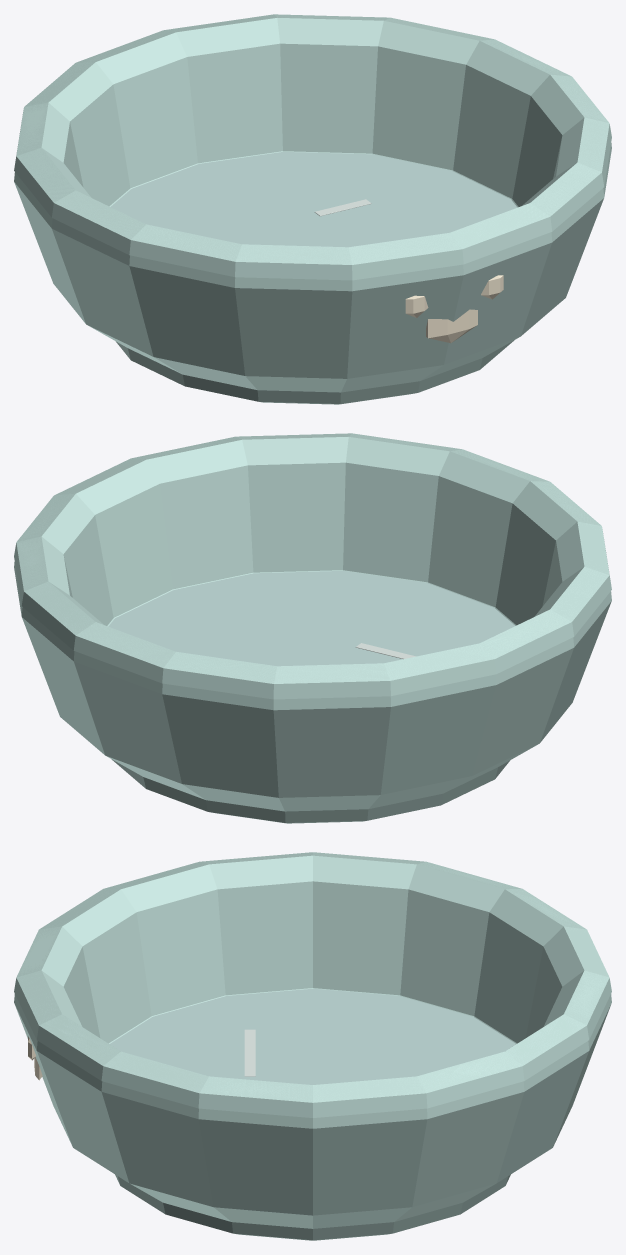
Rendered from crafted-cat-water-5-1.glb.
3 renders of one model, top to bottom at view 1: azimuth 30°, elevation 25°; view 2: azimuth 150°, elevation 25°; view 3: azimuth 270°, elevation 25°, orthographic.
Parts seen in each view (by area): view 1: ceramic-bowl, water-level, glazed-rim, foot-ring, paw-pad; view 2: ceramic-bowl, water-level, glazed-rim, foot-ring; view 3: ceramic-bowl, water-level, glazed-rim, foot-ring, water-glint.
Part boxes in pixels (bbox=[...]): ceramic-bowl: bbox=[14, 14, 611, 392]; water-level: bbox=[111, 152, 517, 247]; glazed-rim: bbox=[14, 14, 611, 280]; foot-ring: bbox=[116, 340, 514, 404]; paw-pad: bbox=[426, 309, 477, 343]; ceramic-bowl: bbox=[14, 433, 611, 811]; water-level: bbox=[108, 571, 514, 666]; glazed-rim: bbox=[14, 433, 611, 699]; foot-ring: bbox=[111, 759, 509, 823]; ceramic-bowl: bbox=[14, 852, 611, 1228]; water-level: bbox=[109, 988, 516, 1084]; glazed-rim: bbox=[14, 852, 611, 1117]; foot-ring: bbox=[115, 1174, 510, 1240]; water-glint: bbox=[244, 1029, 255, 1076].
Bounding box in the file's own units: 0.76 × 0.265 × 0.76.
